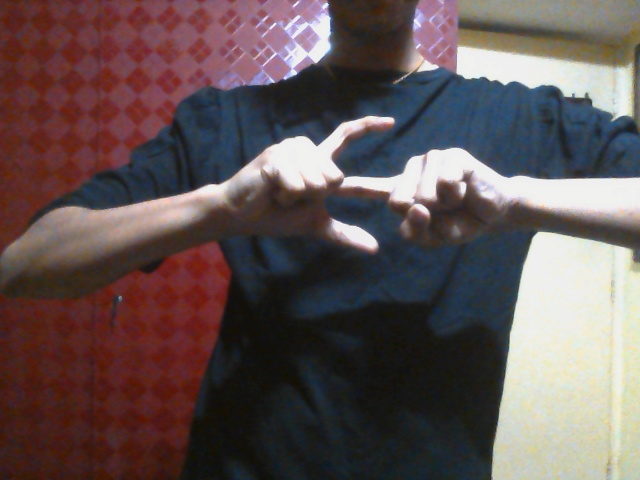E: (224, 115, 502, 262)
